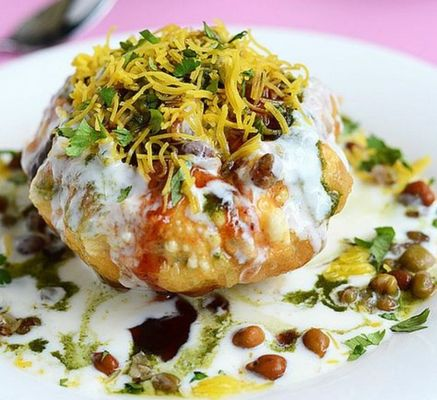soup: (14, 14, 348, 298)
